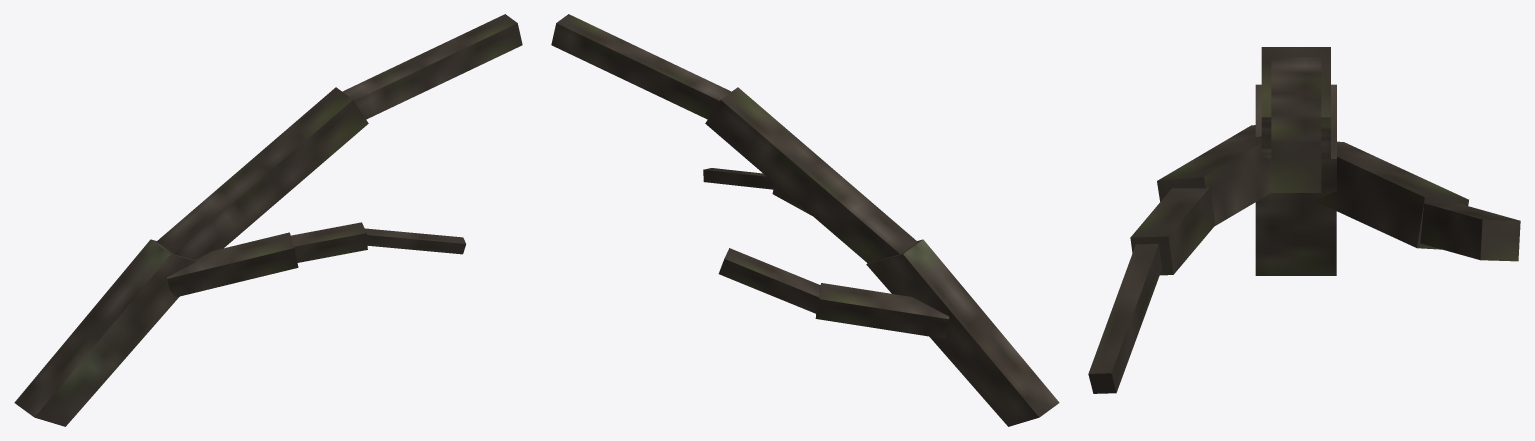
The model's file is spruce_twig_branch_up.obj.
The picture shows the model from 3 angles, left to right: view 1: azimuth 30°, elevation 25°; view 2: azimuth 150°, elevation 25°; view 3: azimuth 270°, elevation 25°; orthographic projection. The views are drawn at different scales.
Parts seen in each view (by area): view 1: cube; view 2: cube; view 3: cube.
Boxes of the visible parts, box(x1,y1,x2,y2) form: cube: box(14, 14, 522, 426); cube: box(551, 14, 1059, 426); cube: box(1088, 47, 1520, 393).
Size of the model in its own units: 2.26 by 1.27 by 0.8586.
